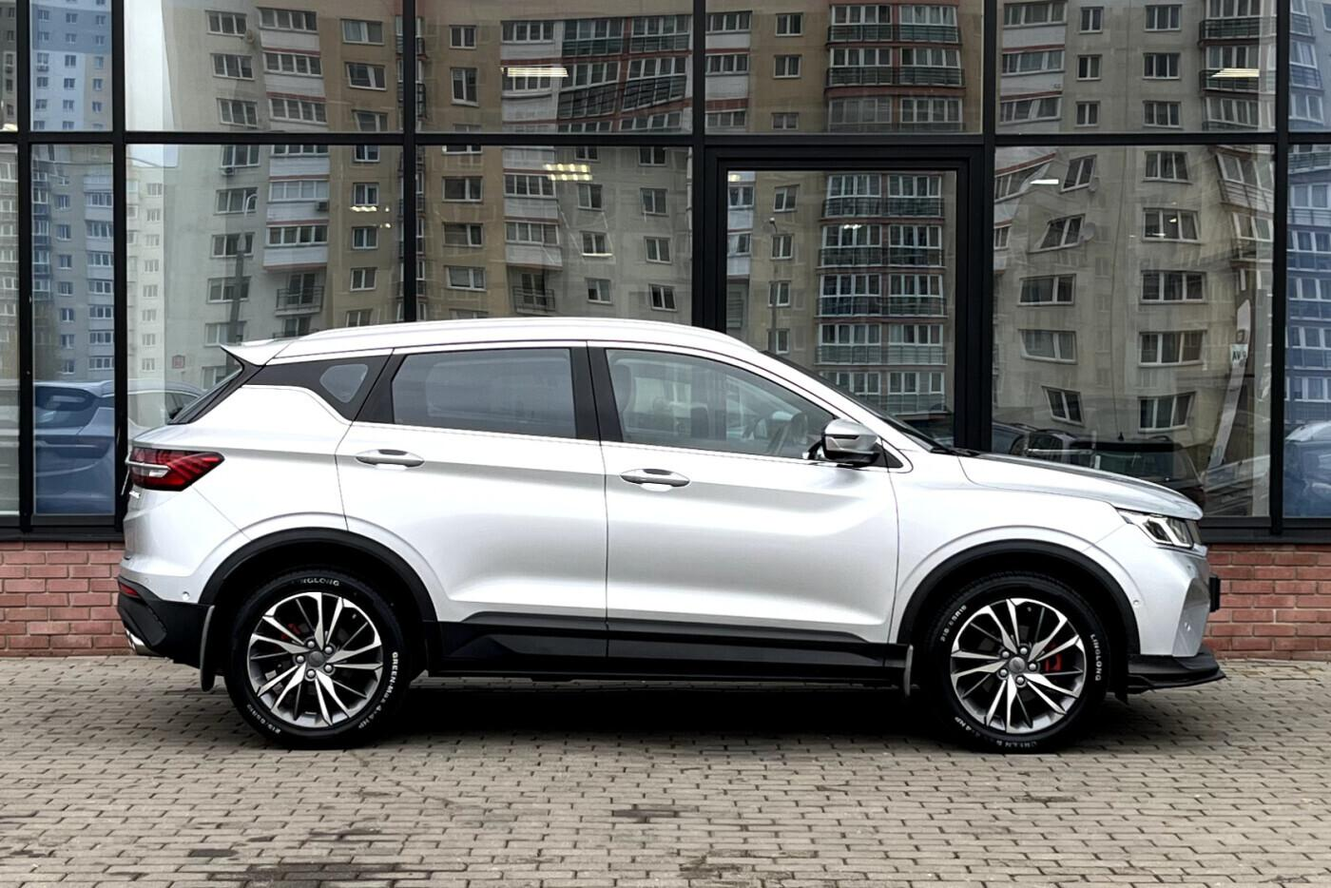Coolray_2019-2023: (112, 321, 1224, 752)
